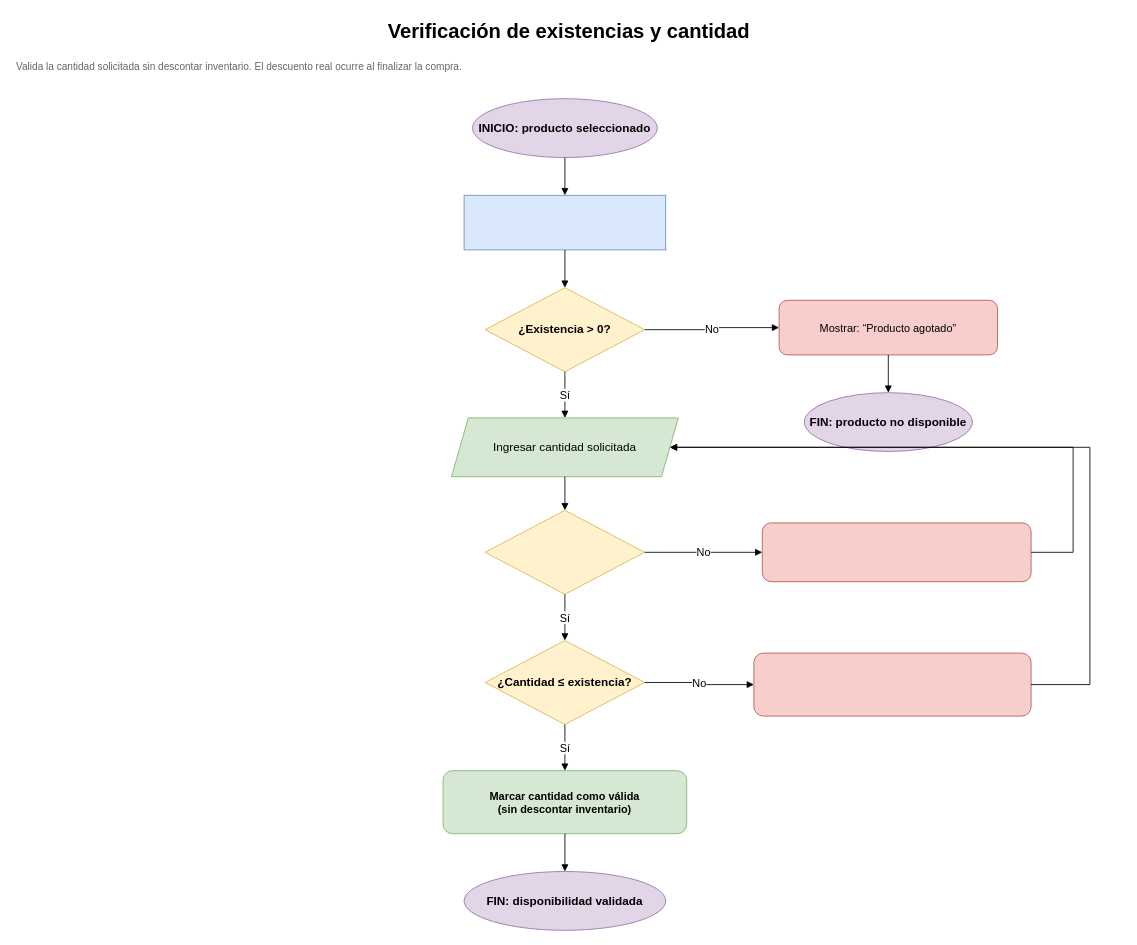
Image size: 1137x945. Some labels were removed from this diagram. The shapes that lost their labels are listed below. From the top down, each one's centre as x and y in pixels, then its label:
At [564,222]: "Consultar existencia actual".
At [564,551]: "¿Cantidad > 0?".
At [896,552]: "Mostrar: “La cantidad debe ser mayor que 0”".
At [892,684]: "Mostrar existencia disponible y solicitar otra cantidad".
